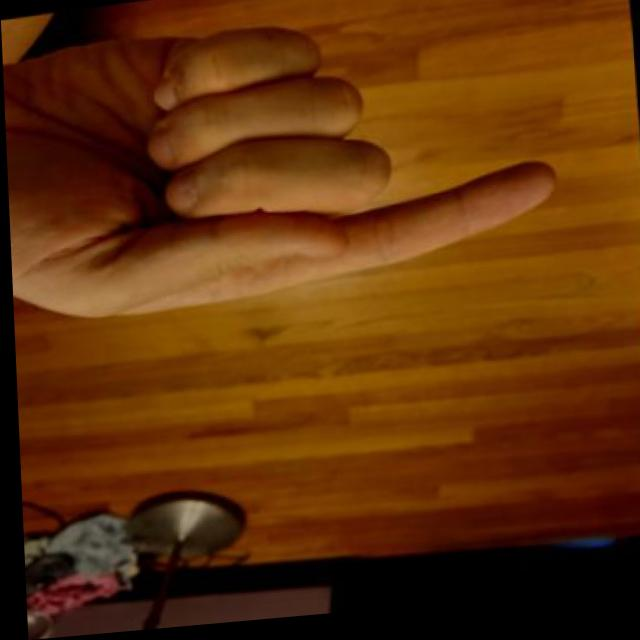G: (2, 0, 577, 345)
